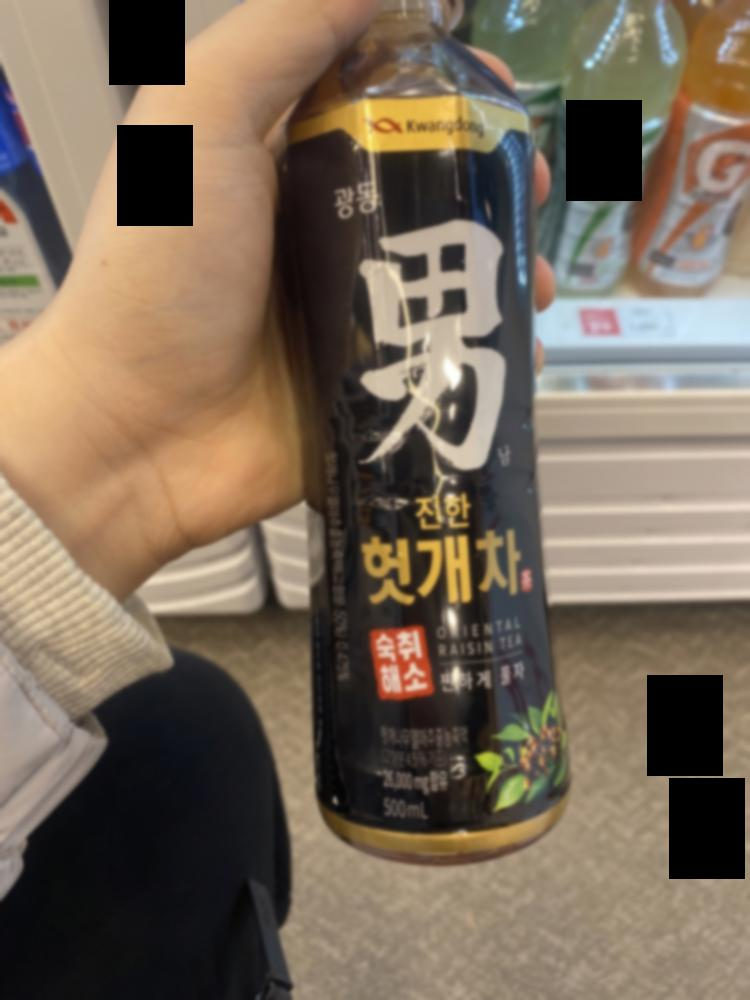heotgaecha: (263, 0, 593, 879)
